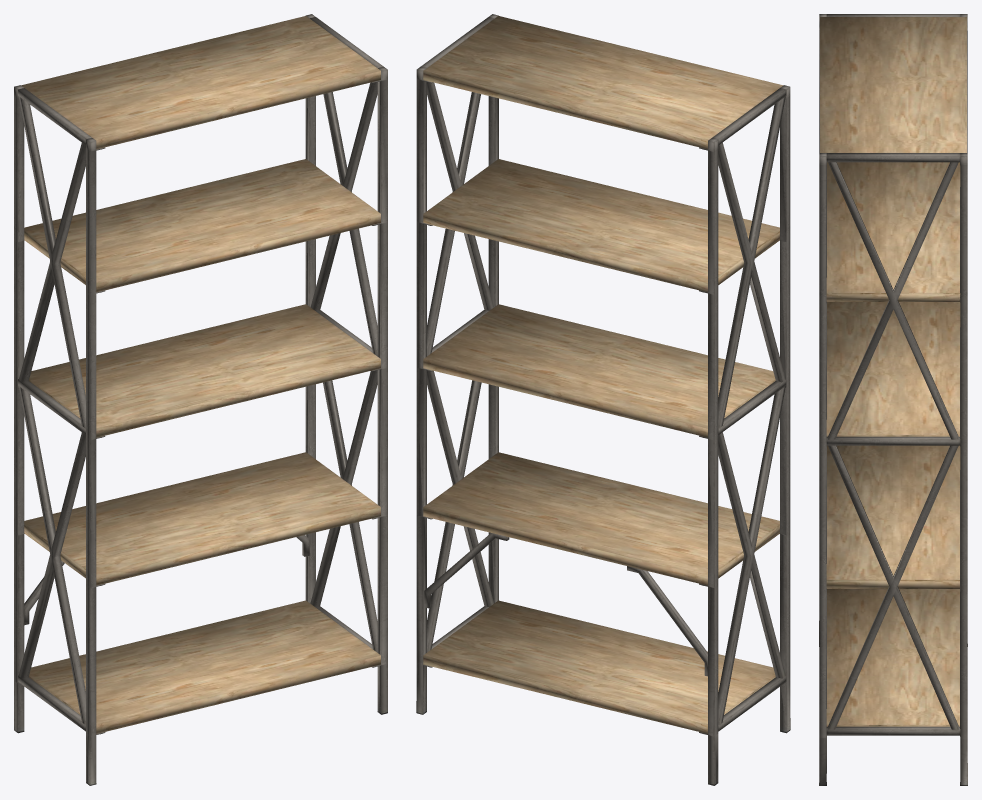
File: abo-B07QC876WJ.glb
The picture shows the model from 3 angles, left to right: view 1: azimuth 30°, elevation 25°; view 2: azimuth 150°, elevation 25°; view 3: azimuth 270°, elevation 25°; orthographic projection. The views are drawn at different scales.
Parts seen in each view (by area): view 1: RootNode; view 2: RootNode; view 3: RootNode.
Boxes of the visible parts, bbox=[...] form: RootNode: bbox=[14, 14, 387, 785]; RootNode: bbox=[416, 14, 790, 785]; RootNode: bbox=[819, 14, 967, 785].
Size of the model in its own units: 0.8738 by 1.8 by 0.3861.
Materials: 1 (1 with a texture image).
